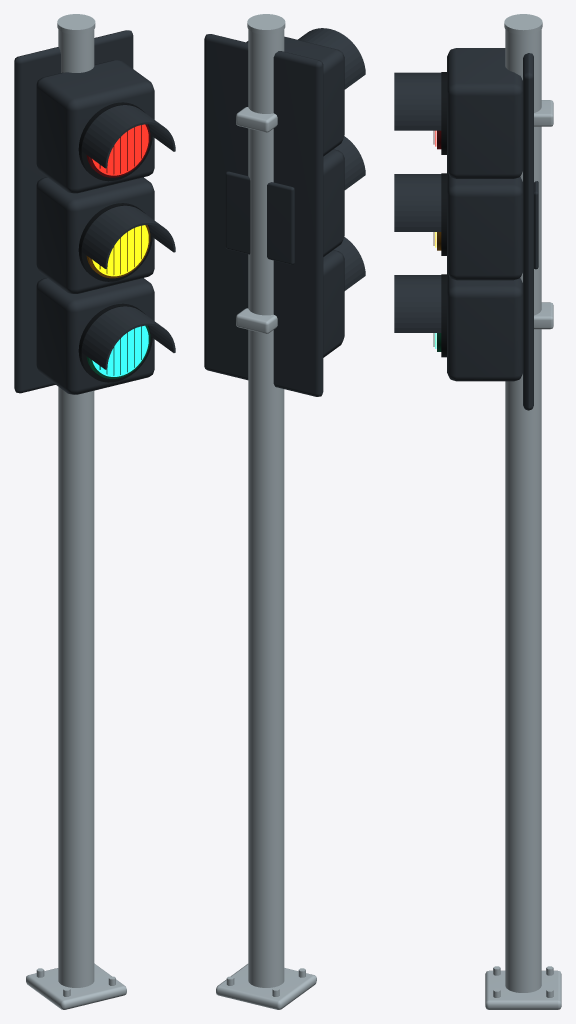
Rendered from DS_Signal_Vehicle.glb.
3 views of the same model, side by side, from view 1: azimuth 30°, elevation 25°; view 2: azimuth 150°, elevation 25°; view 3: azimuth 270°, elevation 25° (orthographic).
Parts seen in each view (by area): view 1: Post.012, Backplate, Module_Red, Module_Amber, Module_Green, SunVisor.002, SunVisor, SunVisor.001, BasePlate.012, Lamp_Amber_Lit_Amber, Lamp_Red_Lit_Red, Lamp_Green_Lit_Green (+4 smaller); view 2: Post.012, Backplate, ServiceDoor, Module_Red, BasePlate.012, Module_Green, Module_Amber, SunVisor, SunVisor.001, SunVisor.002, MountBracket.001, MountBracket (+1 smaller); view 3: Post.012, Module_Red, Module_Green, Module_Amber, Backplate, SunVisor, SunVisor.001, SunVisor.002, BasePlate.012, PostCap.012, LensSeal.002, LensSeal (+4 smaller).
Boxes of the visible parts, x1=… form: Post.012: x1=58, y1=29, x2=94, y2=987; Backplate: x1=14, y1=30, x2=133, y2=393; Module_Red: x1=36, y1=60, x2=154, y2=193; Module_Amber: x1=36, y1=177, x2=154, y2=293; Module_Green: x1=36, y1=278, x2=154, y2=394; SunVisor.002: x1=82, y1=306, x2=175, y2=369; SunVisor: x1=82, y1=105, x2=175, y2=168; SunVisor.001: x1=82, y1=205, x2=175, y2=268; BasePlate.012: x1=26, y1=963, x2=126, y2=1009; Lamp_Amber_Lit_Amber: x1=92, y1=225, x2=148, y2=276; Lamp_Red_Lit_Red: x1=92, y1=124, x2=148, y2=175; Lamp_Green_Lit_Green: x1=92, y1=325, x2=148, y2=376; Post.012: x1=248, y1=29, x2=284, y2=987; Backplate: x1=204, y1=34, x2=323, y2=396; ServiceDoor: x1=225, y1=171, x2=294, y2=264; Module_Red: x1=246, y1=36, x2=344, y2=156; BasePlate.012: x1=216, y1=964, x2=316, y2=1009; Module_Green: x1=323, y1=250, x2=344, y2=357; Module_Amber: x1=323, y1=149, x2=344, y2=256; SunVisor: x1=298, y1=28, x2=365, y2=89; SunVisor.001: x1=334, y1=136, x2=365, y2=189; SunVisor.002: x1=334, y1=237, x2=365, y2=290; MountBracket.001: x1=236, y1=308, x2=277, y2=333; MountBracket: x1=236, y1=107, x2=277, y2=132; Post.012: x1=505, y1=29, x2=541, y2=992; Module_Red: x1=447, y1=48, x2=522, y2=178; Module_Green: x1=447, y1=272, x2=522, y2=381; Module_Amber: x1=447, y1=171, x2=522, y2=280; Backplate: x1=523, y1=53, x2=533, y2=410; SunVisor: x1=394, y1=72, x2=441, y2=130; SunVisor.001: x1=394, y1=174, x2=441, y2=231; SunVisor.002: x1=394, y1=275, x2=441, y2=332; BasePlate.012: x1=485, y1=970, x2=561, y2=1009; PostCap.012: x1=504, y1=14, x2=542, y2=34; LensSeal.002: x1=441, y1=274, x2=446, y2=357; LensSeal: x1=441, y1=72, x2=446, y2=154.
Size of the model in its own units: 0.43 by 3.37 by 0.525.
